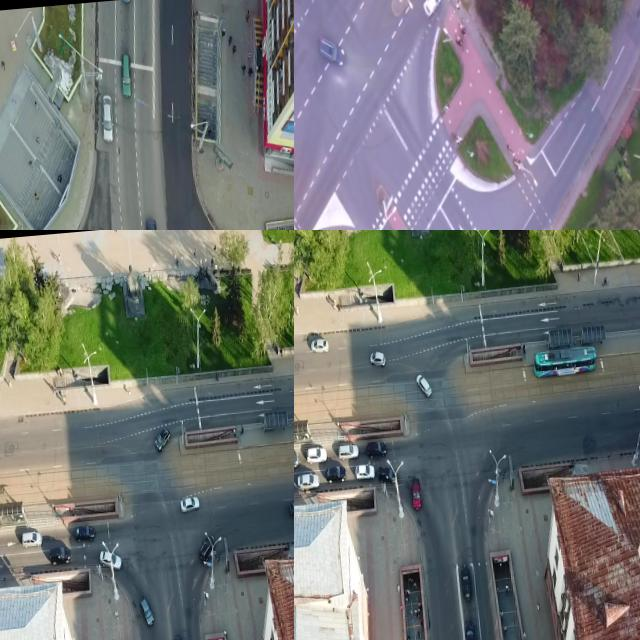UAI: (316, 31, 346, 68), (99, 92, 115, 143), (118, 52, 133, 98), (197, 534, 217, 565), (98, 548, 122, 572), (153, 426, 172, 452), (460, 566, 473, 603), (49, 545, 72, 565), (140, 597, 155, 627), (377, 464, 398, 485), (365, 439, 387, 459), (297, 473, 320, 491), (410, 476, 422, 510), (416, 372, 432, 397), (179, 494, 200, 513), (74, 523, 96, 541), (305, 446, 327, 464), (325, 465, 347, 483), (420, 0, 443, 17), (21, 530, 42, 548), (355, 462, 376, 480), (337, 443, 359, 459), (310, 337, 329, 354), (369, 351, 386, 368), (463, 621, 476, 640), (144, 216, 160, 230), (288, 498, 294, 516), (294, 450, 299, 468)
car: (532, 346, 598, 377)
